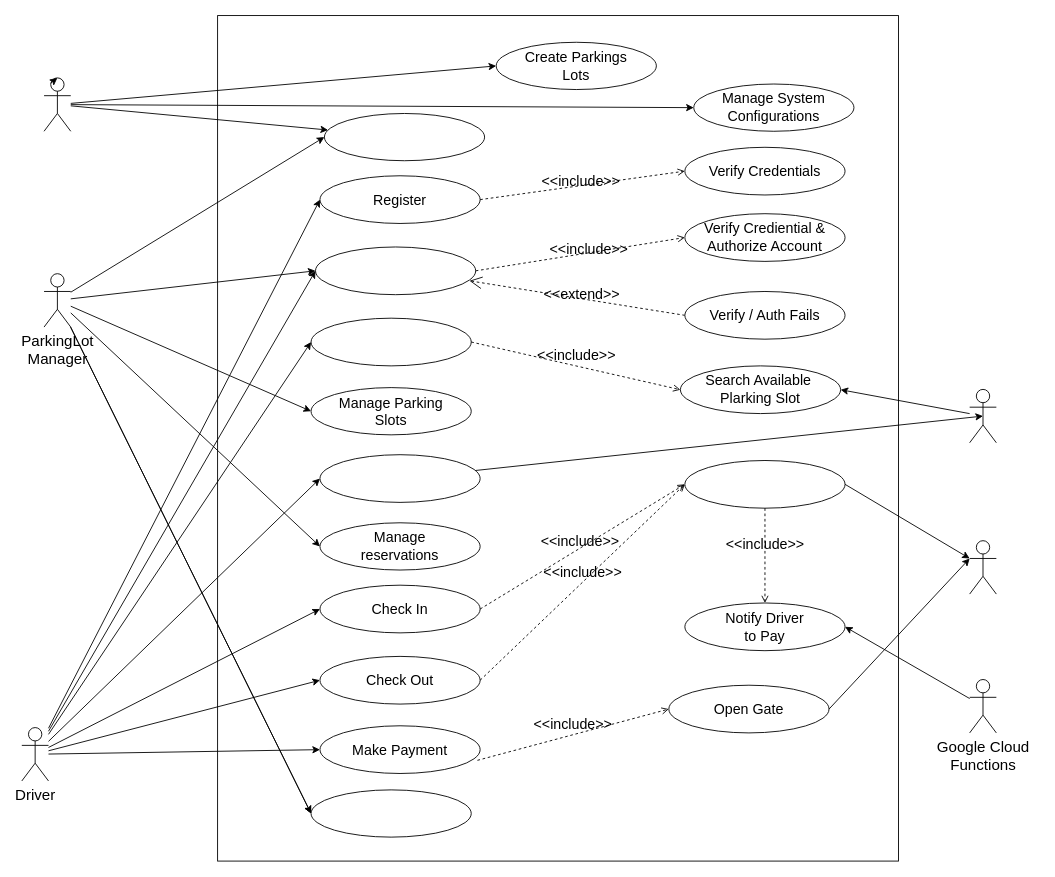
The diagram is 1055 pixels wide and 877 high, and some of its shapes have lost their labels. Each missing label, with the centre of its shape:
Gate Automation System: pixel 982 567
Generate Reports: pixel 404 137
Login: pixel 395 270
Lot Occupancy System: pixel 982 415
Manage Payments: pixel 390 813
Recognizes Plate Number: pixel 764 484
Reserve Parking Slot: pixel 399 478
Search for Parking Lot: pixel 390 341
System Admin: pixel 57 104
